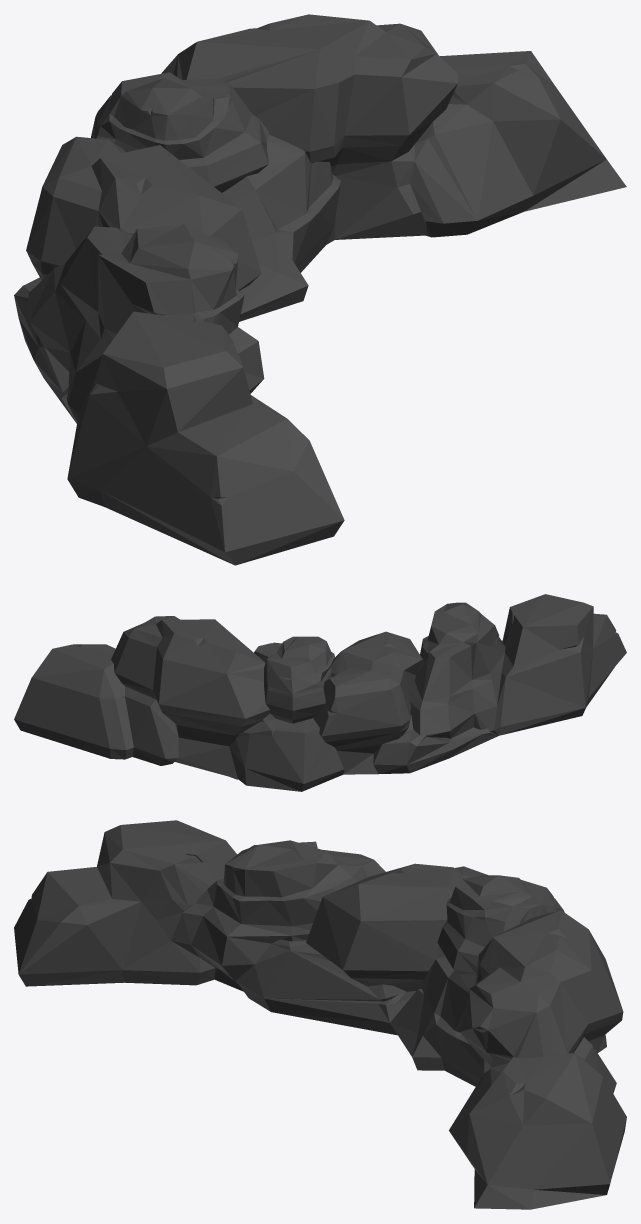
File: rock__rockwall_corner_dark.glb
The picture shows the model from 3 angles, top to bottom: view 1: azimuth 30°, elevation 25°; view 2: azimuth 150°, elevation 25°; view 3: azimuth 270°, elevation 25°; orthographic projection. The views are drawn at different scales.
Parts seen in each view (by area): view 1: rockwall.corner.dark; view 2: rockwall.corner.dark; view 3: rockwall.corner.dark.
Boxes of the visible parts, left/top/right/bottom form: rockwall.corner.dark: left=14, top=14, right=626, bottom=565; rockwall.corner.dark: left=14, top=594, right=626, bottom=791; rockwall.corner.dark: left=14, top=820, right=626, bottom=1209.
Bounding box in the file's own units: 5.77 × 1.5 × 5.25.
1 material, 1 textured.
